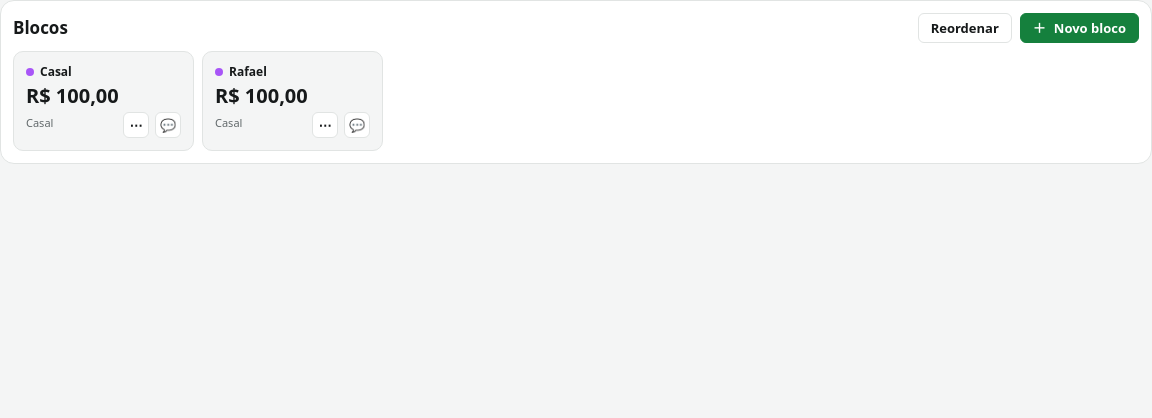
it: menu ⋯ › oferece Editar fórmula, Ver cálculo, Gerar mensagem, Reordenar e Excluir bloco
Click the button named "Ações do Bloco Casal" at (136, 125), box left=123, top=112, right=149, bottom=138
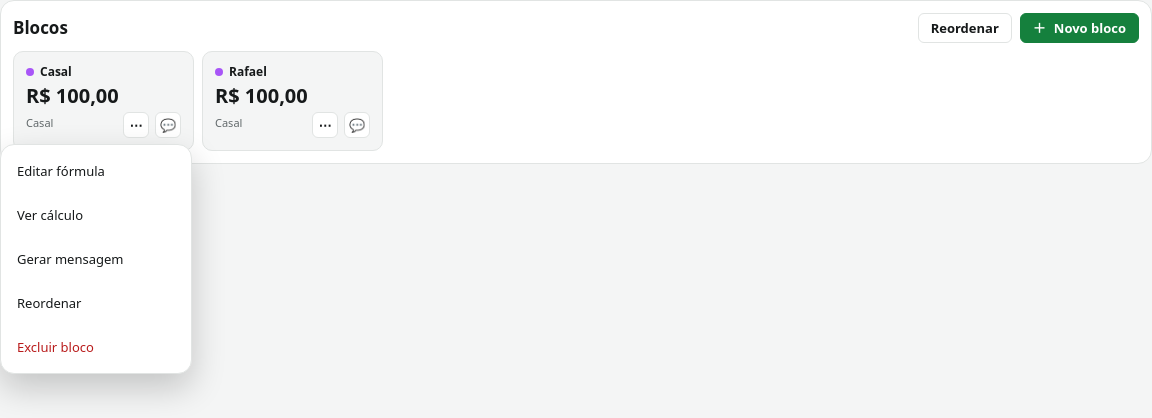
Result: the menu items read "Editar fórmula", "Ver cálculo", "Gerar mensagem", "Reordenar", "Excluir bloco", in this order at left=17, top=162, right=105, bottom=180; left=17, top=206, right=83, bottom=224; left=17, top=250, right=124, bottom=268; left=17, top=294, right=81, bottom=312; left=17, top=338, right=94, bottom=356
